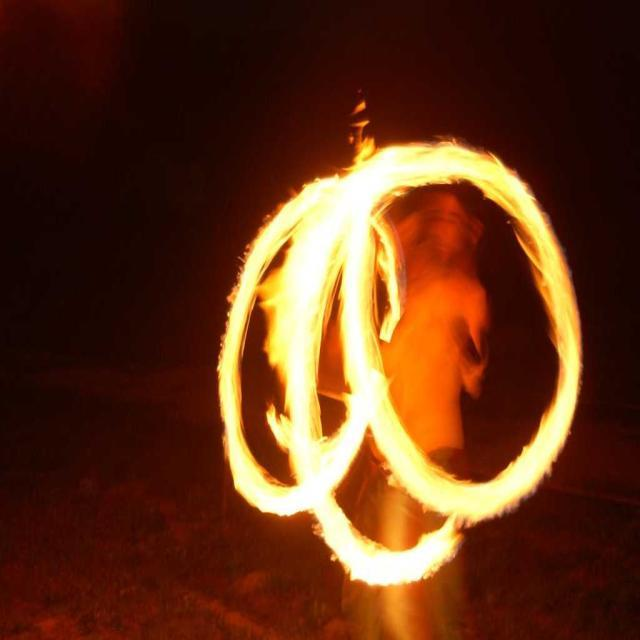Fire: (223, 157, 582, 549)
